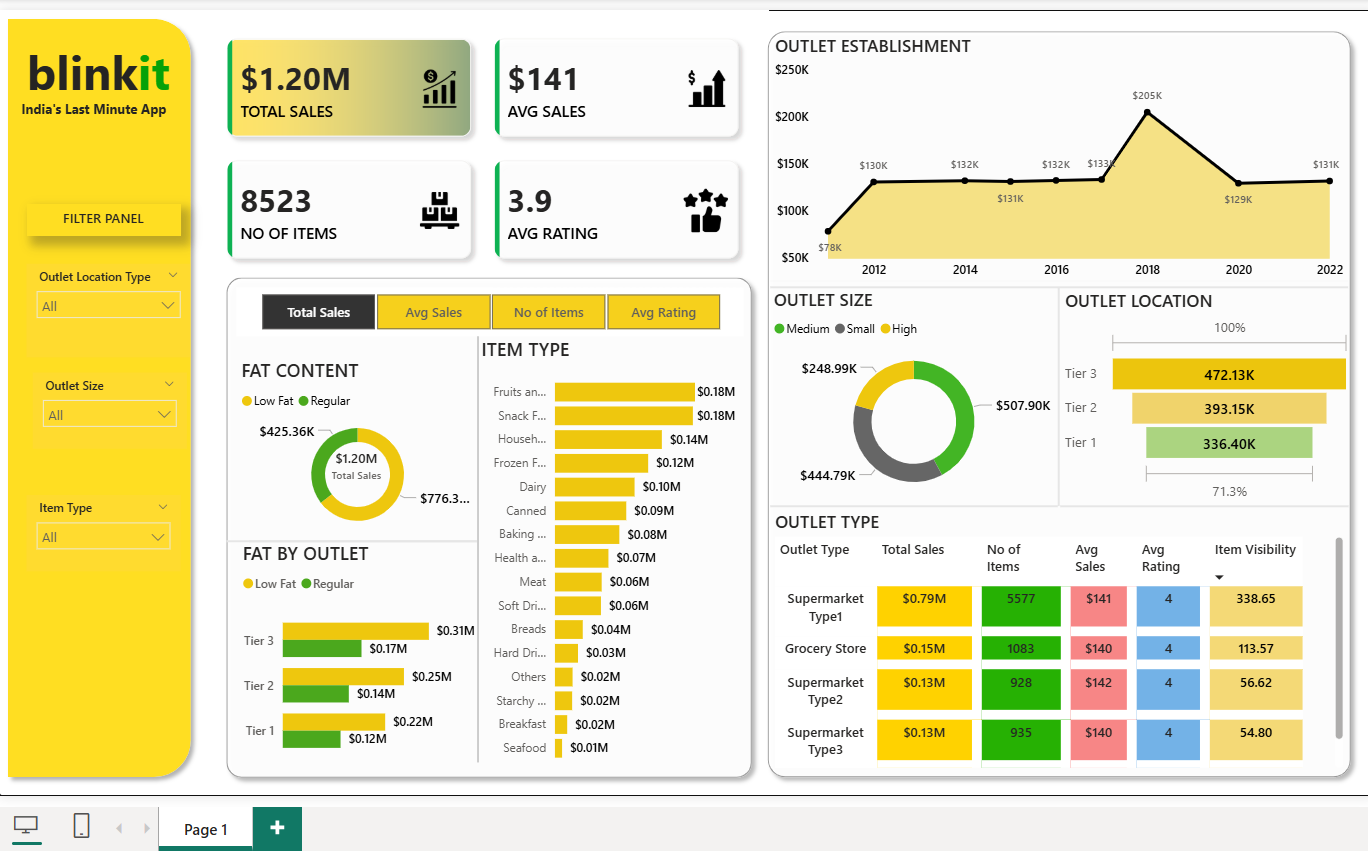

Layout of this report page (visuals, bound fields, positions):
{"tool":"powerbi","page":{"name":"Page 1","canvas":[1400,800],"ordinal":0},"visuals":[{"type":"shape","box":[0,0,204.1,789.5],"z":0},{"type":"textbox","box":[18,24,166.6,76.5],"z":1000},{"type":"textbox","box":[18,87.1,166.6,28.5],"z":2000},{"type":"cardVisual","fields":{"Data":["BlinkIT Grocery Data.Total Sales","BlinkIT Grocery Data.Avg Sales","BlinkIT Grocery Data.No of Items","BlinkIT Grocery Data.Avg Rating"]},"box":[204.1,0,591.3,282.2],"z":3000},{"type":"shape","box":[222.1,262.7,552.3,526.8],"z":4000},{"type":"donutChart","title":"FAT CONTENT","fields":{"Y":["BlinkIT Grocery Data.Total Sales"],"Category":["BlinkIT Grocery Data.Item Fat Content"]},"box":[241.6,353.6,246.7,185.7],"z":5000},{"type":"slicer","fields":{"Values":["Metrics.Metrics"]},"box":[241.6,282.2,516.3,49.5],"z":6000},{"type":"cardVisual","fields":{"Data":["BlinkIT Grocery Data.Total Sales"]},"box":[300.2,429.2,127.6,66],"z":7000},{"type":"clusteredBarChart","title":"FAT BY OUTLET","fields":{"Y":["BlinkIT Grocery Data.Total Sales"],"Category":["BlinkIT Grocery Data.Outlet Location Type"],"Series":["BlinkIT Grocery Data.Item Fat Content"]},"box":[243.1,538.8,246.1,237.1],"z":8000},{"type":"shape","box":[784.6,270.2,588.1,12.3],"z":9000},{"type":"shape","box":[472.8,331.7,28.5,433.7],"z":10000},{"type":"barChart","title":"ITEM TYPE","fields":{"Y":["BlinkIT Grocery Data.Total Sales"],"Category":["BlinkIT Grocery Data.Item Type"]},"box":[485.8,331.9,268.4,443.9],"z":11000},{"type":"shape","box":[773.9,12.3,611.1,776.9],"z":12000},{"type":"lineChart","title":"OUTLET ESTABLISHMENT","fields":{"Y":["BlinkIT Grocery Data.Total Sales"],"Category":["BlinkIT Grocery Data.Outlet Establishment Year"]},"box":[785,24,588.3,258.1],"z":13000},{"type":"shape","box":[254.9,532.8,231.8,15.4],"z":14000},{"type":"shape","box":[784.6,276.4,588.1,12.3],"z":15000},{"type":"donutChart","title":"OUTLET SIZE","fields":{"Y":["BlinkIT Grocery Data.Total Sales"],"Category":["BlinkIT Grocery Data.Outlet Size"]},"box":[783.4,282.3,295.1,222.6],"z":16000},{"type":"shape","box":[231.5,532.9,254.4,15.3],"z":17000},{"type":"shape","box":[1039.5,282.5,78.3,222.6],"z":18000},{"type":"funnel","title":"OUTLET LOCATION","fields":{"Y":["Sum(BlinkIT Grocery Data.Sales)"],"Category":["BlinkIT Grocery Data.Outlet Location Type"]},"box":[1079.4,284.1,300.9,221.1],"z":19000},{"type":"shape","box":[1079.4,500.6,293.3,7.7],"z":20000},{"type":"pivotTable","title":"OUTLET TYPE","fields":{"Rows":["BlinkIT Grocery Data.Outlet Type"],"Values":["BlinkIT Grocery Data.Total Sales","BlinkIT Grocery Data.No of Items","BlinkIT Grocery Data.Avg Sales","BlinkIT Grocery Data.Avg Rating","Sum(BlinkIT Grocery Data.Item Visibility)"]},"box":[785,508.8,588.3,267.2],"z":21000},{"type":"slicer","fields":{"Values":["BlinkIT Grocery Data.Outlet Size"]},"box":[34.3,368.8,156.4,77.6],"z":22000},{"type":"slicer","fields":{"Values":["BlinkIT Grocery Data.Outlet Location Type"]},"box":[28,258.2,166.6,95.4],"z":23000},{"type":"slicer","fields":{"Values":["BlinkIT Grocery Data.Item Type"]},"box":[28,493.5,156.4,77.6],"z":24000},{"type":"textbox","box":[28,197.1,156.4,33.1],"z":25000},{"type":"shape","box":[784.7,501.1,292.5,7.6],"z":26000}]}

Visuals, with their boxes on the page's 1400x800 design canvas (x1, y1, x2, y2). These are canvas units, not pixel positions in the 1368x851 screenshot, which may show the page scaled, cropped or inside an application window:
shape: <bbox>0, 0, 204, 790</bbox>
textbox: <bbox>18, 24, 185, 100</bbox>
textbox: <bbox>18, 87, 185, 116</bbox>
cardVisual - BlinkIT Grocery Data.Total Sales x BlinkIT Grocery Data.Avg Sales: <bbox>204, 0, 795, 282</bbox>
shape: <bbox>222, 263, 774, 790</bbox>
"FAT CONTENT" donutChart: <bbox>242, 354, 488, 539</bbox>
slicer - Metrics.Metrics: <bbox>242, 282, 758, 332</bbox>
cardVisual - BlinkIT Grocery Data.Total Sales: <bbox>300, 429, 428, 495</bbox>
"FAT BY OUTLET" clusteredBarChart: <bbox>243, 539, 489, 776</bbox>
shape: <bbox>785, 270, 1373, 282</bbox>
shape: <bbox>473, 332, 501, 765</bbox>
"ITEM TYPE" barChart: <bbox>486, 332, 754, 776</bbox>
shape: <bbox>774, 12, 1385, 789</bbox>
"OUTLET ESTABLISHMENT" lineChart: <bbox>785, 24, 1373, 282</bbox>
shape: <bbox>255, 533, 487, 548</bbox>
shape: <bbox>785, 276, 1373, 289</bbox>
"OUTLET SIZE" donutChart: <bbox>783, 282, 1078, 505</bbox>
shape: <bbox>232, 533, 486, 548</bbox>
shape: <bbox>1040, 282, 1118, 505</bbox>
"OUTLET LOCATION" funnel: <bbox>1079, 284, 1380, 505</bbox>
shape: <bbox>1079, 501, 1373, 508</bbox>
"OUTLET TYPE" pivotTable: <bbox>785, 509, 1373, 776</bbox>
slicer - BlinkIT Grocery Data.Outlet Size: <bbox>34, 369, 191, 446</bbox>
slicer - BlinkIT Grocery Data.Outlet Location Type: <bbox>28, 258, 195, 354</bbox>
slicer - BlinkIT Grocery Data.Item Type: <bbox>28, 494, 184, 571</bbox>
textbox: <bbox>28, 197, 184, 230</bbox>
shape: <bbox>785, 501, 1077, 509</bbox>
